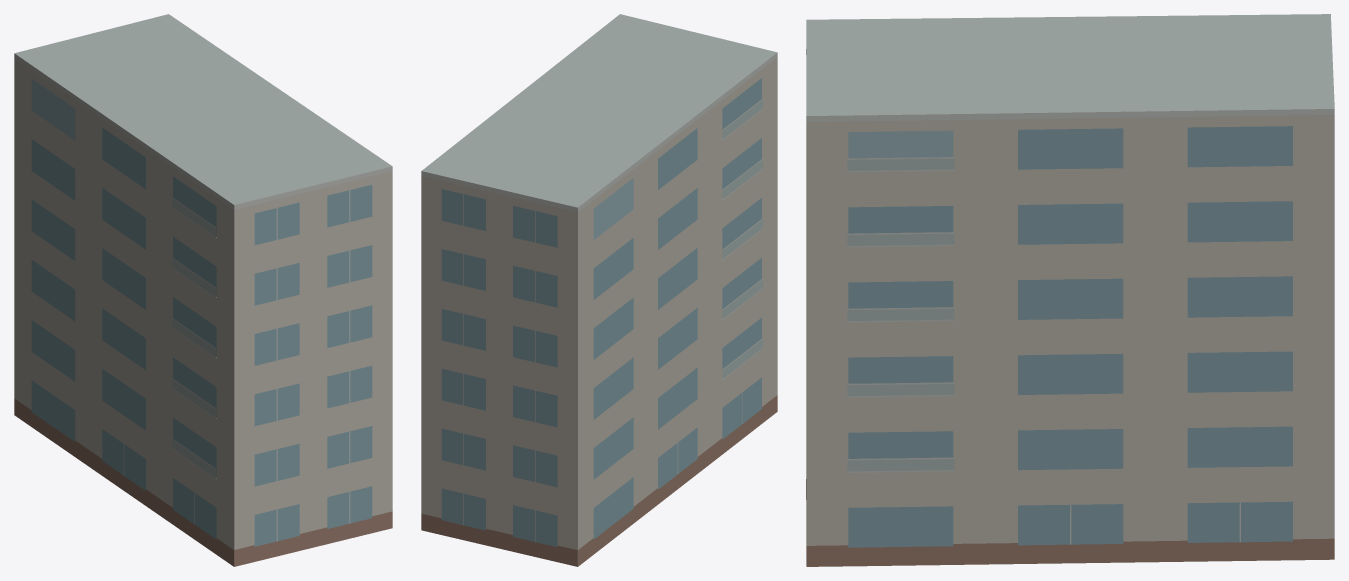
File: survey-upis-33008191.glb
The picture shows the model from 3 angles, left to right: view 1: azimuth 30°, elevation 25°; view 2: azimuth 150°, elevation 25°; view 3: azimuth 270°, elevation 25°; orthographic projection. The views are drawn at different scales.
Parts seen in each view (by area): view 1: survey-upis-33008191.tmp; view 2: survey-upis-33008191.tmp; view 3: survey-upis-33008191.tmp.
Boxes of the visible parts, box(x1,y1,x2,y2) form: survey-upis-33008191.tmp: box(14, 14, 392, 566); survey-upis-33008191.tmp: box(421, 14, 777, 566); survey-upis-33008191.tmp: box(806, 14, 1334, 566).
Size of the model in its own units: 8.95 by 18.4 by 19.57.
